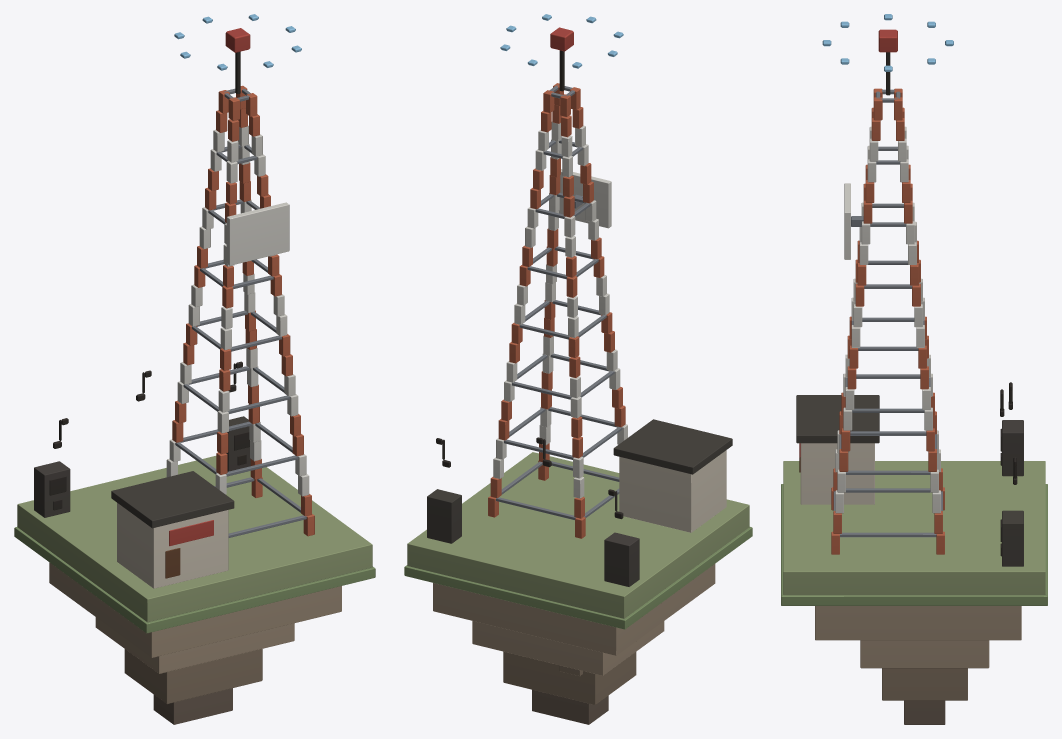
Rendered from region_06.glb.
3 renders of one model, left to right at view 1: azimuth 30°, elevation 25°; view 2: azimuth 150°, elevation 25°; view 3: azimuth 270°, elevation 25°, orthographic. The views are drawn at different scales.
Parts seen in each view (by area): view 1: region_06_static, region_06_glow; view 2: region_06_static; view 3: region_06_static, region_06_rings, region_06_beacon.
Boxes of the visible parts, left/top/right/bottom form: region_06_static: left=14, top=51, right=375, bottom=724; region_06_glow: left=169, top=520, right=213, bottom=546; region_06_static: left=404, top=50, right=752, bottom=724; region_06_static: left=781, top=52, right=1047, bottom=724; region_06_rings: left=822, top=14, right=953, bottom=71; region_06_beacon: left=878, top=29, right=897, bottom=52.
Bounding box in the file's own units: 6.1 × 17.41 × 6.1.
